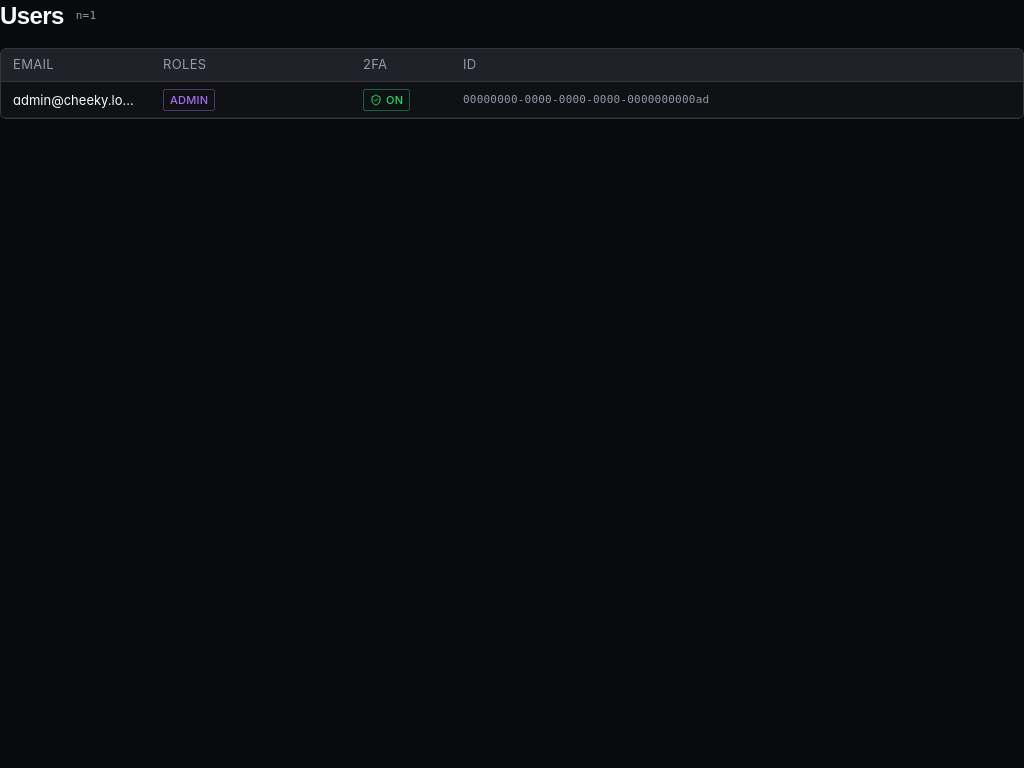
UsersView › warns the operator before they remove their own admin role
Click the text "admin@cheeky.local": (76, 100) [13, 90, 139, 110]
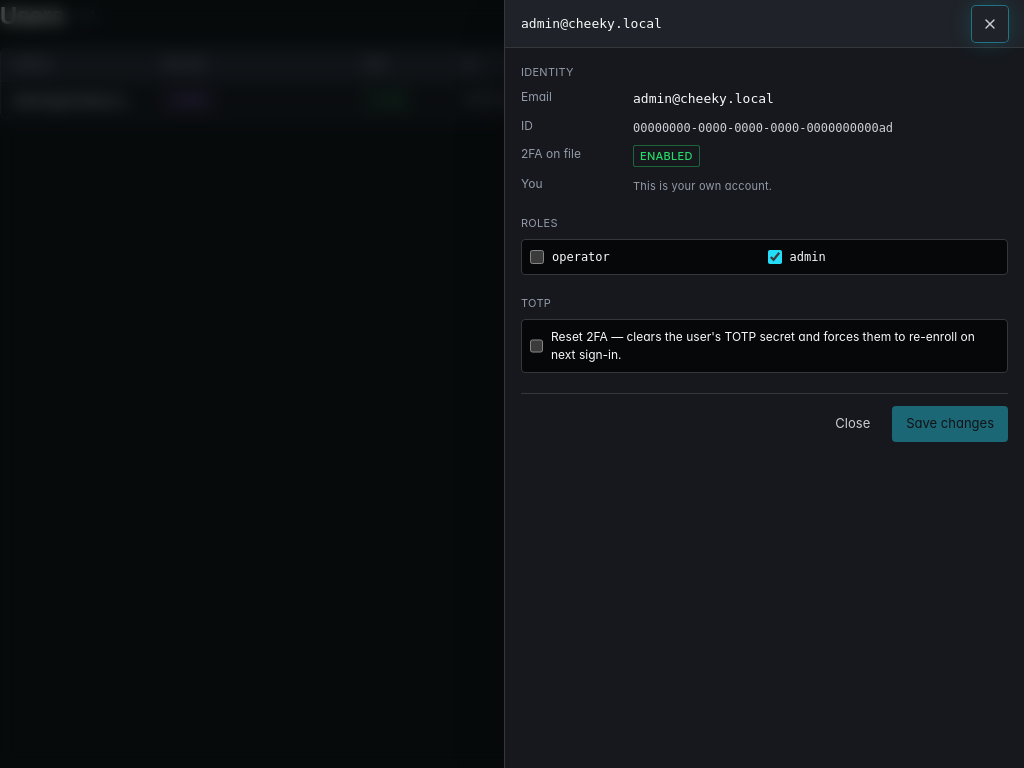
Click the checkbox labelled "admin": (774, 257) [768, 250, 782, 264]
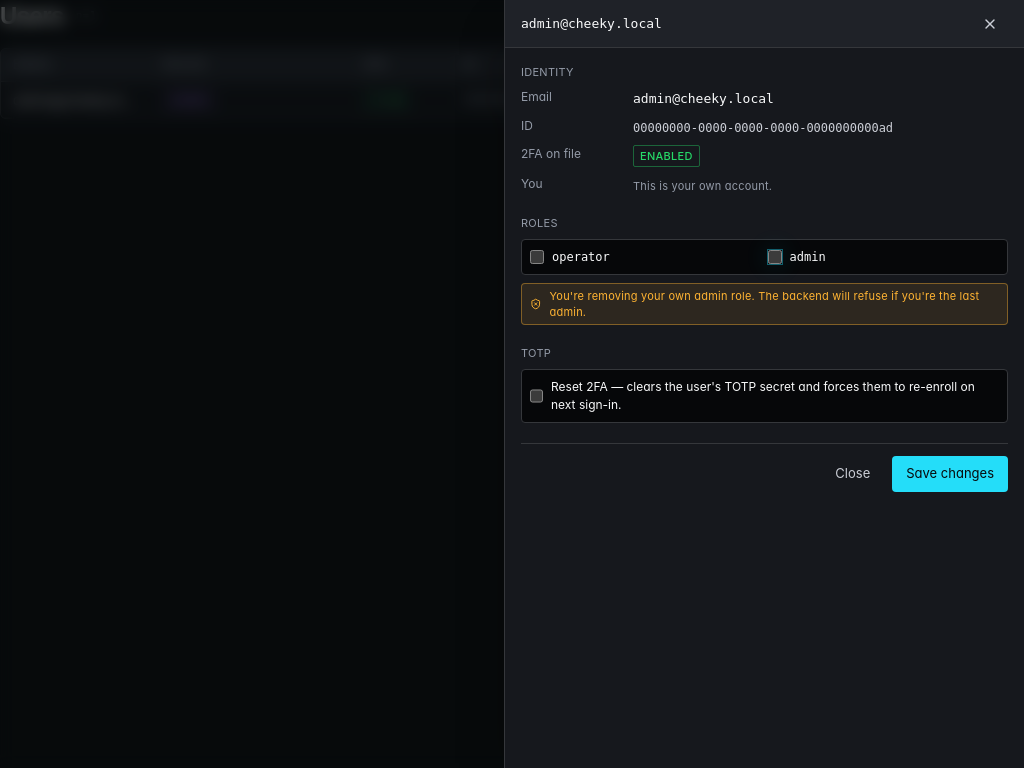
Expected: the message with test id "self-demote-warning" is shown, [521, 283, 1008, 325]
